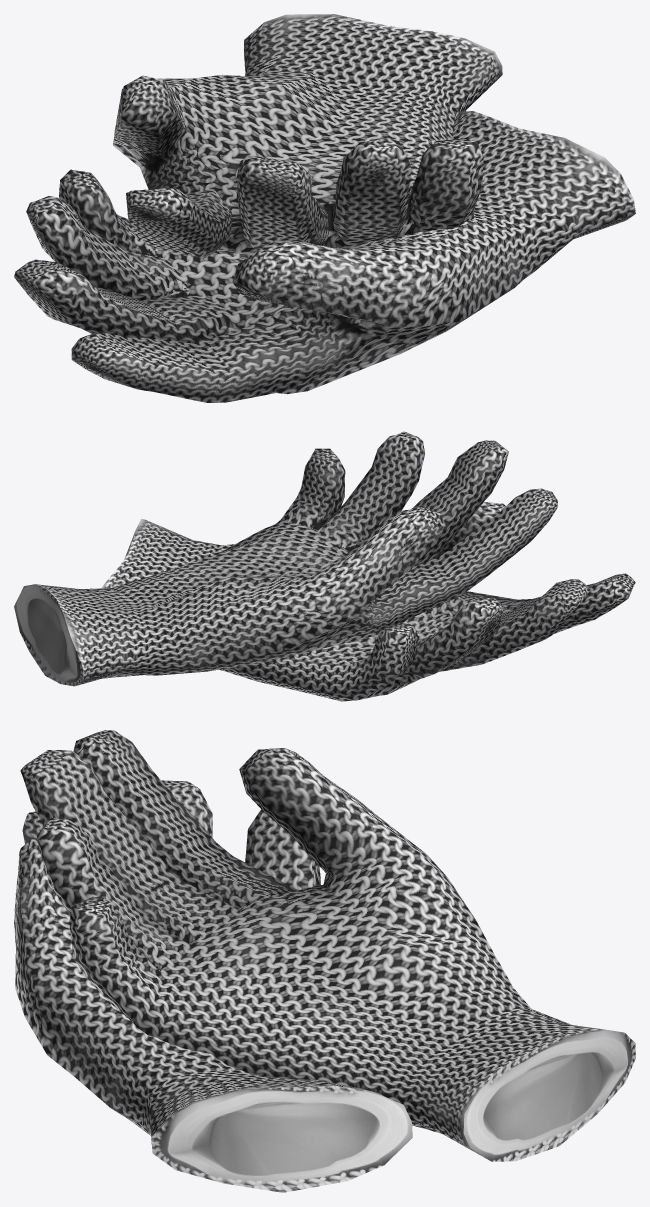
Rendered from 039_chain_gauntlets_lp.fbx.
3 views of the same model, one above another, from view 1: azimuth 30°, elevation 25°; view 2: azimuth 150°, elevation 25°; view 3: azimuth 270°, elevation 25° (orthographic). The views are drawn at different scales.
Visible parts, largest first — view 1: 039_chain_gauntlets_01_low, 039_chain_gauntlets_02_low; view 2: 039_chain_gauntlets_02_low, 039_chain_gauntlets_01_low; view 3: 039_chain_gauntlets_02_low, 039_chain_gauntlets_01_low.
Part boxes in pixels (box(x1,y1,x2,y2)): 039_chain_gauntlets_01_low: box(14, 111, 635, 402); 039_chain_gauntlets_02_low: box(113, 14, 502, 258); 039_chain_gauntlets_02_low: box(14, 431, 558, 686); 039_chain_gauntlets_01_low: box(101, 502, 635, 701); 039_chain_gauntlets_02_low: box(20, 730, 635, 1161); 039_chain_gauntlets_01_low: box(14, 780, 412, 1192).
Bounding box in the file's own units: 36.13 × 14.59 × 30.54.
